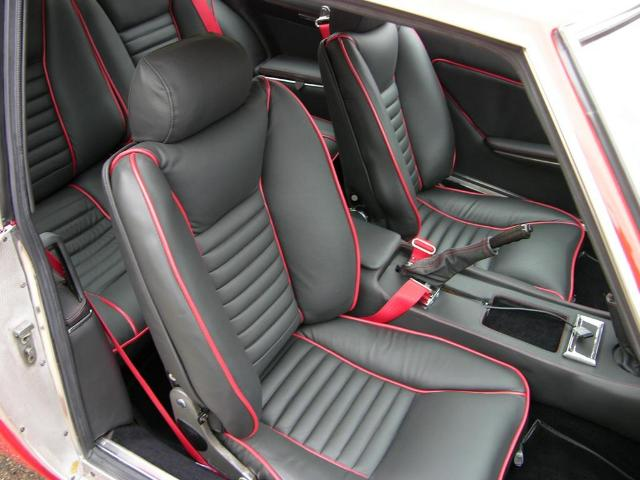Seatbelt: (44, 248, 226, 478), (353, 222, 439, 318), (356, 277, 430, 317), (192, 0, 222, 38), (316, 4, 334, 40), (320, 23, 328, 39)
